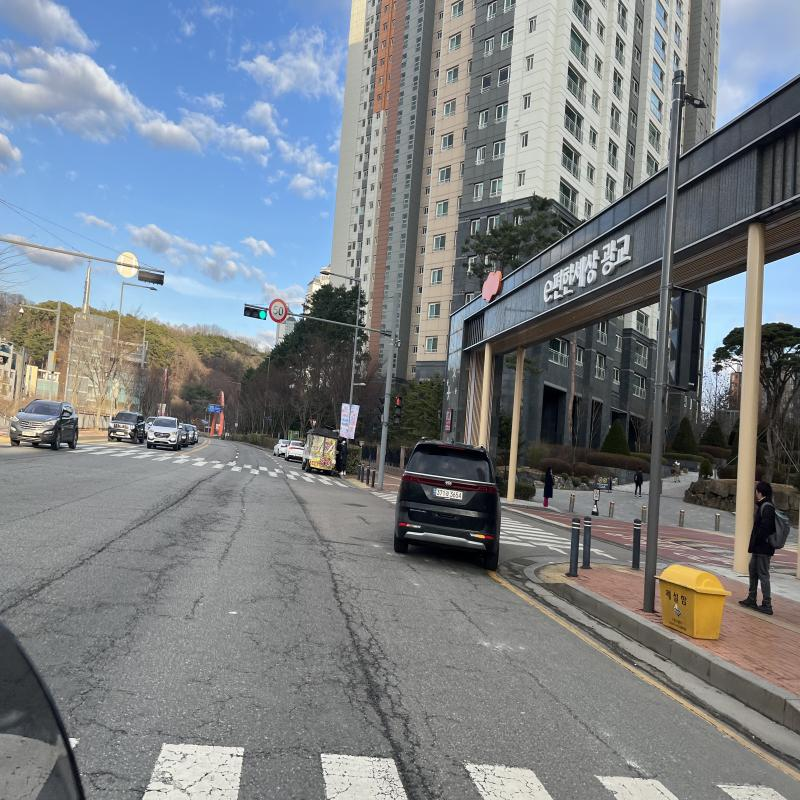green: (259, 310, 267, 320)
